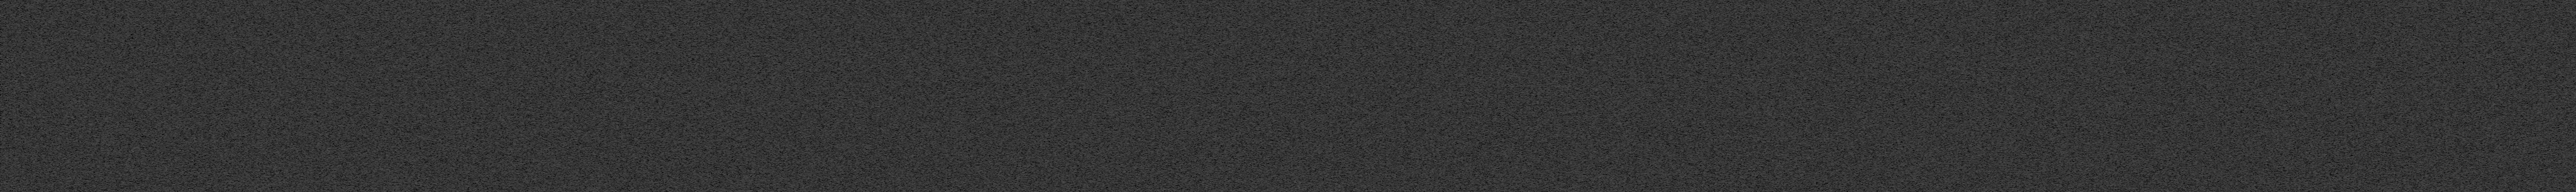wv_am: (2369, 0, 2372, 192)
wv_cw: (2402, 0, 2410, 192), (1419, 0, 1426, 192), (1428, 0, 1431, 192)
wv_lsb: (2435, 2, 2440, 192), (2279, 3, 2284, 171), (2279, 172, 2284, 185), (2279, 185, 2284, 189), (2279, 190, 2284, 192)
wv_usb: (1037, 2, 1043, 187), (1439, 2, 1444, 192), (1037, 189, 1042, 192)
wv_wbfm: (2131, 0, 2331, 192)
